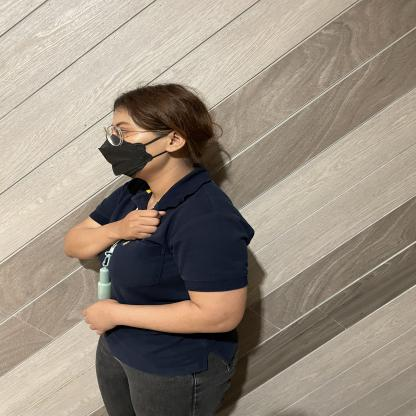Sick: (43, 194, 195, 267)
